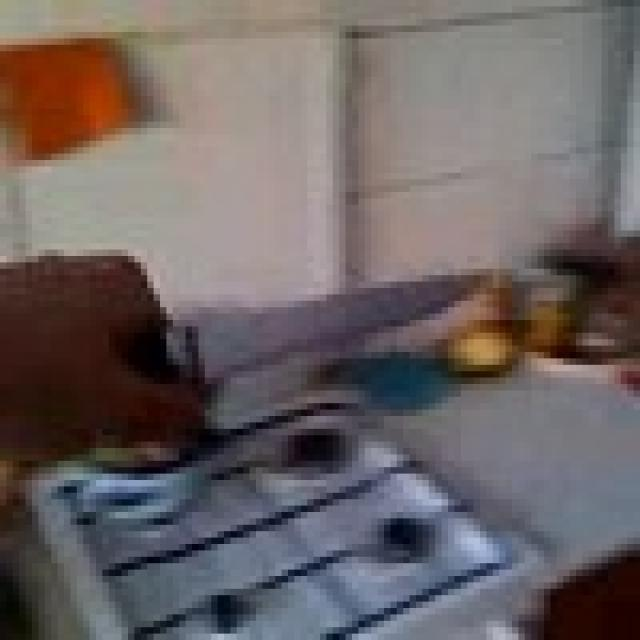knife: (147, 256, 499, 403)
